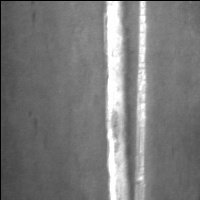inclusion: (28, 7, 40, 31)
scratches: (103, 1, 132, 200), (131, 1, 148, 200)
